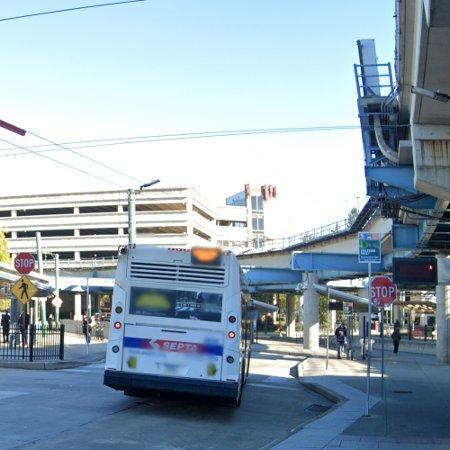buses: (104, 247, 251, 406)
